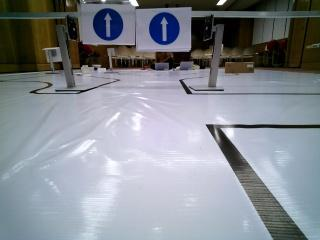straight: (134, 7, 191, 52), (82, 2, 135, 45)
